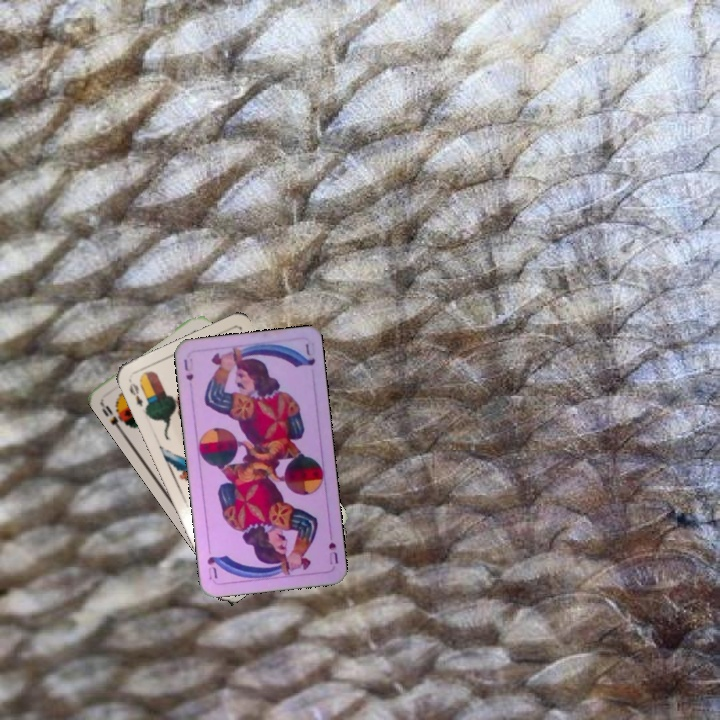EO: (125, 376, 146, 409)
SO: (96, 396, 131, 434)
SU: (324, 528, 341, 567), (180, 355, 196, 383)
